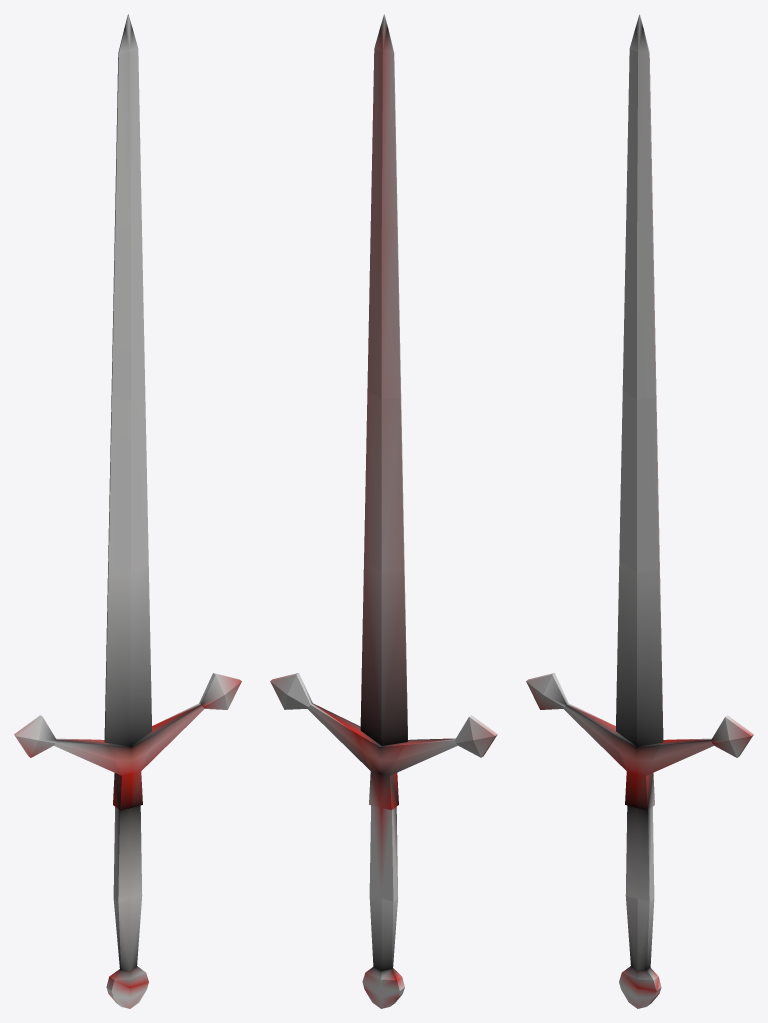
The model's file is Claymore.fbx.
3 views of the same model, side by side, from view 1: azimuth 30°, elevation 25°; view 2: azimuth 150°, elevation 25°; view 3: azimuth 330°, elevation 25° (orthographic).
Parts seen in each view (by area): view 1: Claymore; view 2: Claymore; view 3: Claymore.
Boxes of the visible parts, x1,y1,x2,y2 form: Claymore: [14, 14, 241, 1008]; Claymore: [270, 14, 497, 1008]; Claymore: [526, 14, 753, 1008].
Bounding box in the file's own units: 120 × 506 × 6.79.
